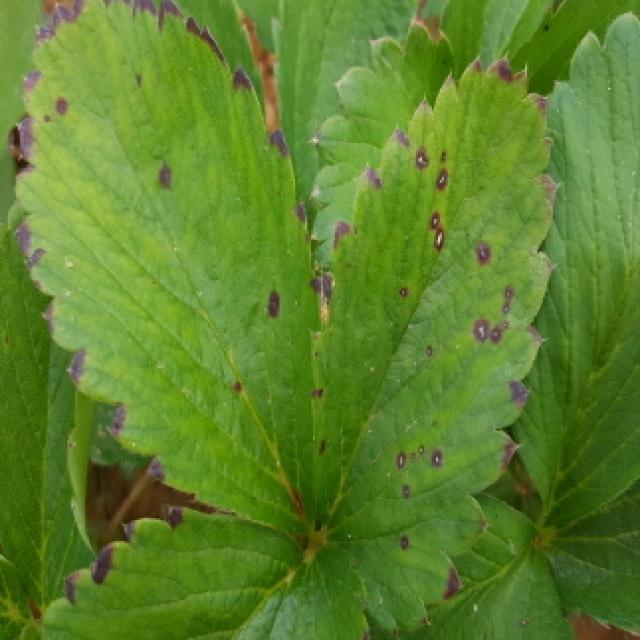Leaf Spot: (11, 0, 325, 534), (306, 51, 561, 640)
